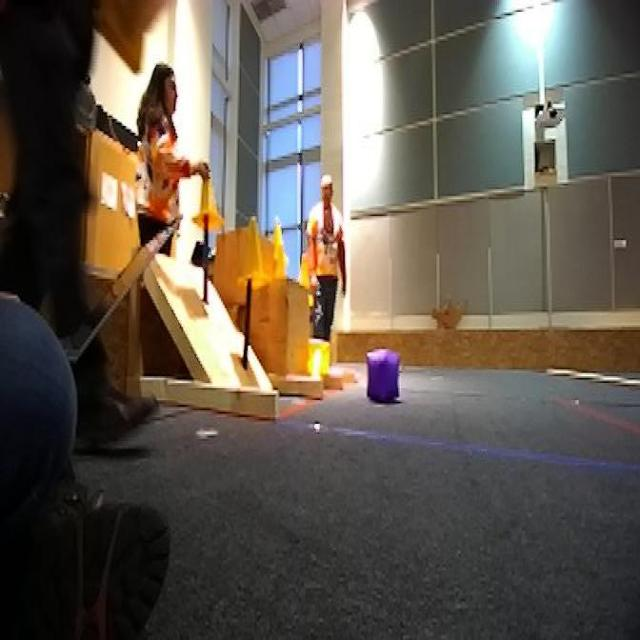frc_cone: (94, 0, 170, 73), (239, 218, 271, 296), (192, 165, 226, 237), (308, 339, 332, 383), (272, 216, 292, 267), (272, 243, 288, 281)
frc_cube: (366, 345, 402, 407)
